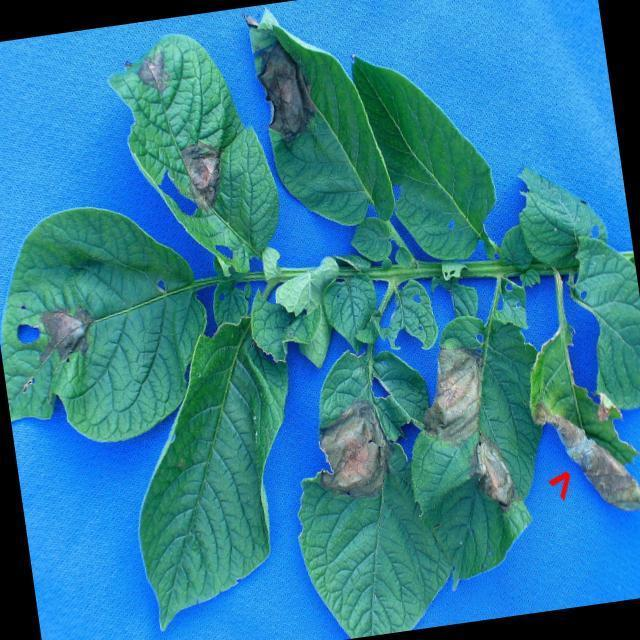Healthy Leaf: (126, 333, 306, 632)
